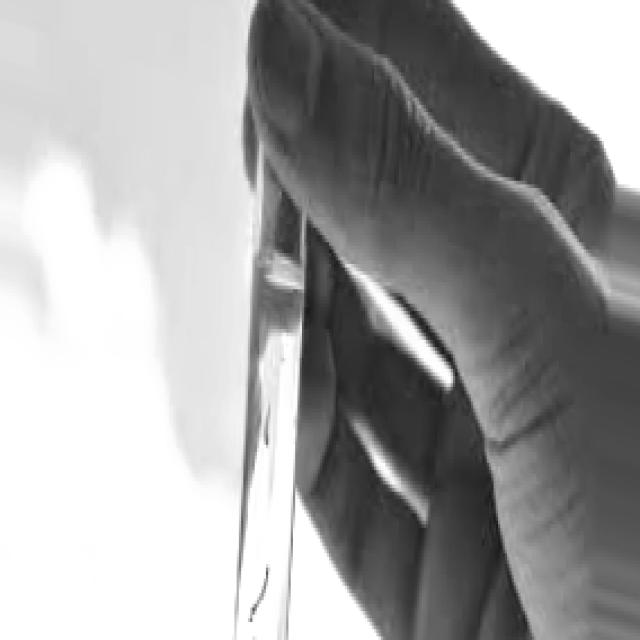larvas: (248, 572, 268, 628), (264, 408, 270, 450)
